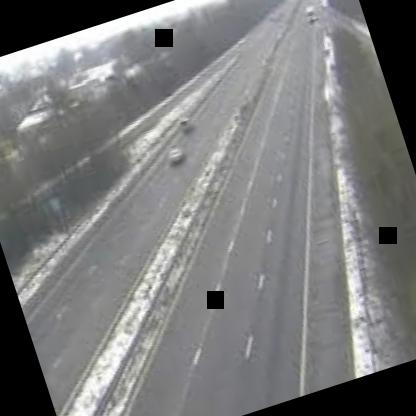car: (158, 138, 190, 174), (295, 0, 320, 27)
